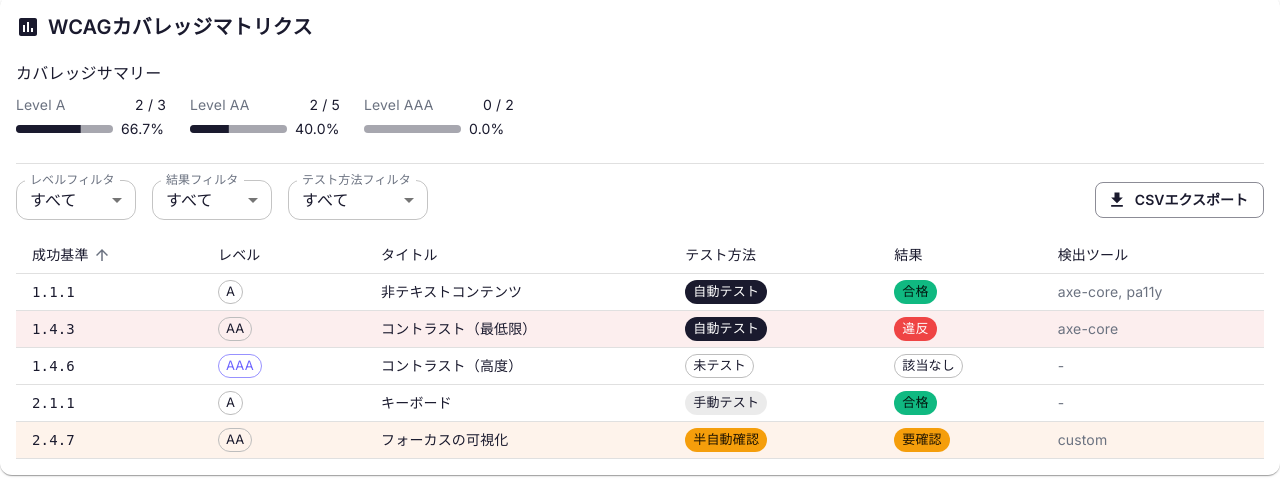
WCAGCoverageMatrix › フィルタリング › レベルでフィルタリングできる
#  AAでフィルタ
Click the dropdown named "レベルフィルタ" at (53, 200), box [30,190,77,210]
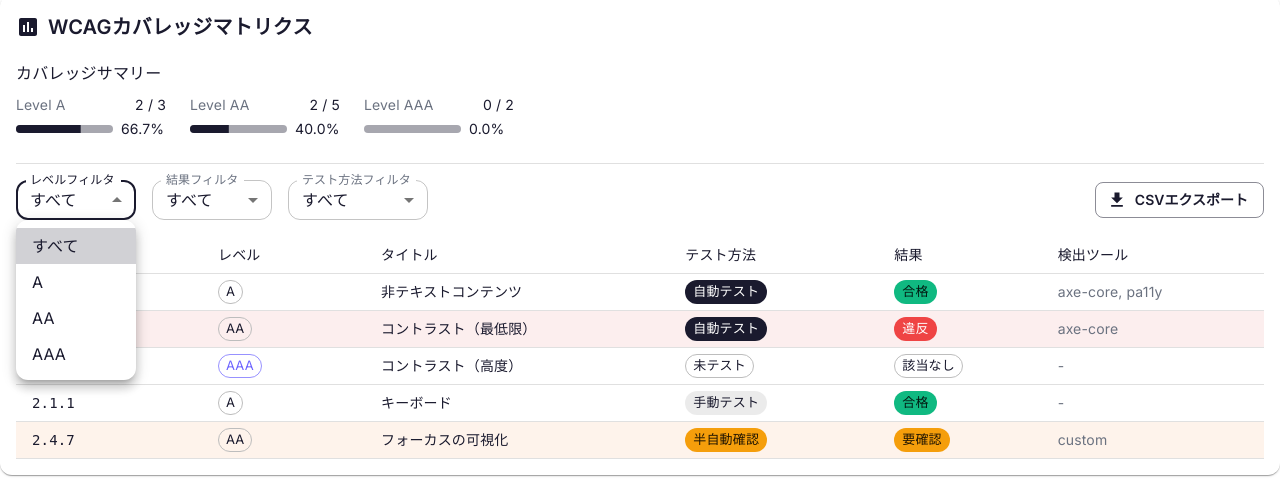
Click the option "AA" at (43, 318), box [32,308,55,328]
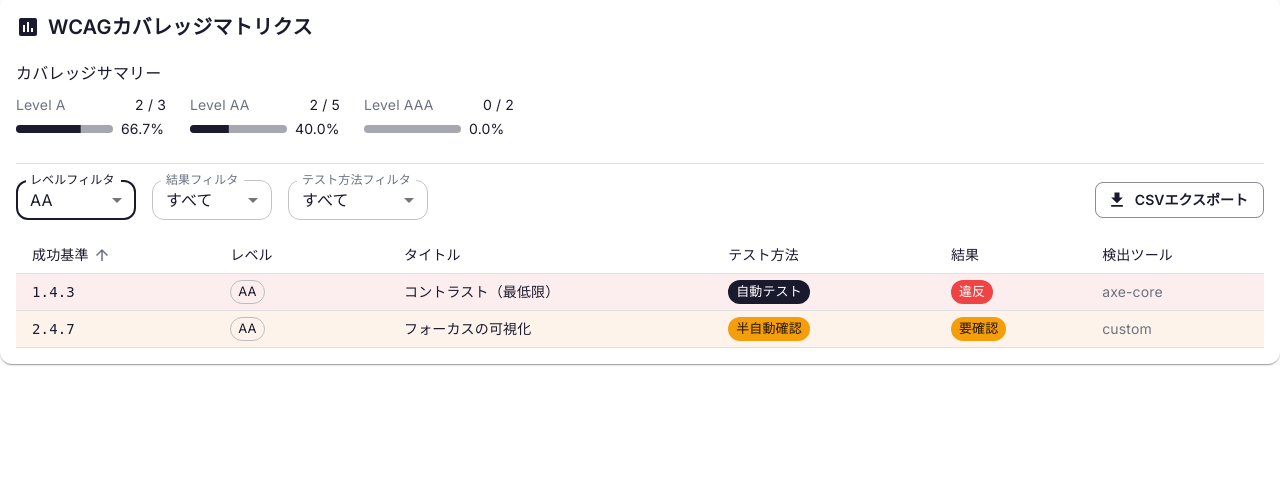
Expected: the text "1.4.3" is shown, [32,284,75,300]
Now the text "1.1.1" is gone
